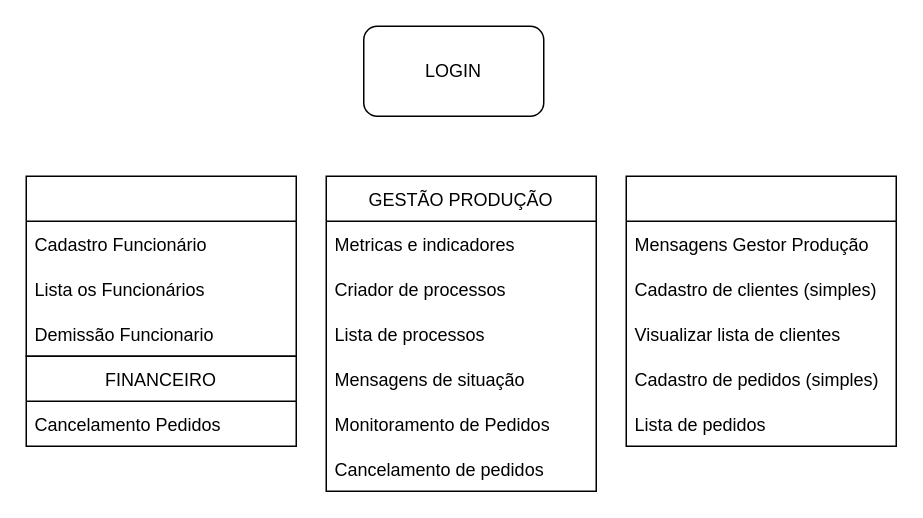
Image size: 923x518. Some labels were removed from this diagram. The shapes that lost their labels are listed below. From the top down, each one's box as (x1, y1, x2, y2) in pixels, then its label:
(25, 175, 296, 356): RH
(625, 175, 896, 446): VENDAS
